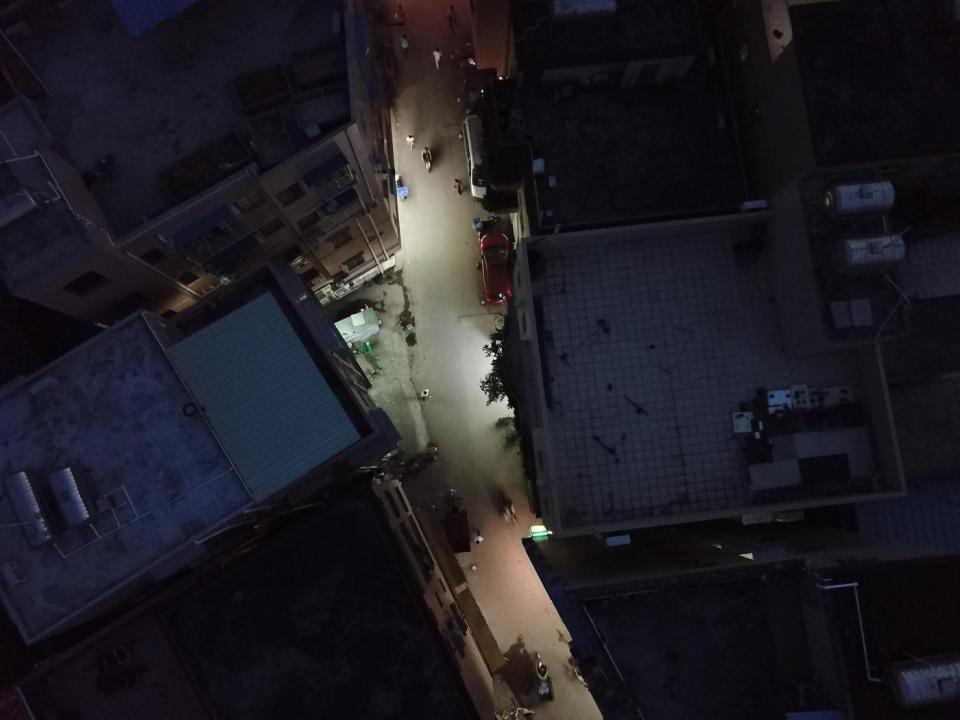car: (480, 232, 513, 305), (456, 57, 493, 113)
van: (462, 114, 499, 202)
